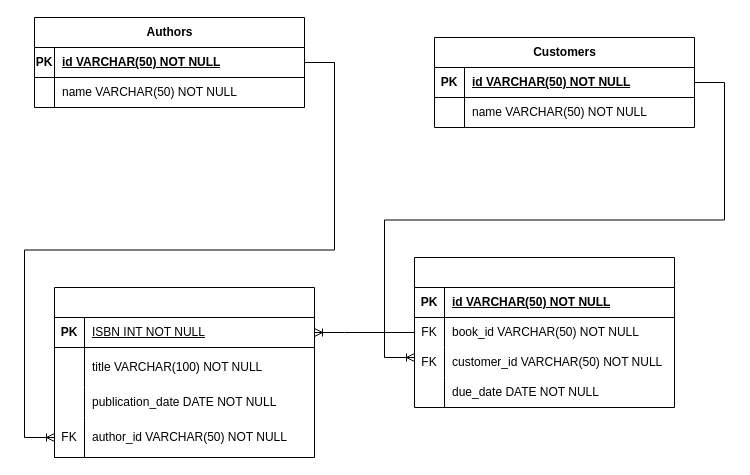
This 750x475 diagram has some shape labels left out. Each missing label, with the box of its shape:
Books: (54, 286, 314, 458)
Transactions: (414, 256, 674, 408)
